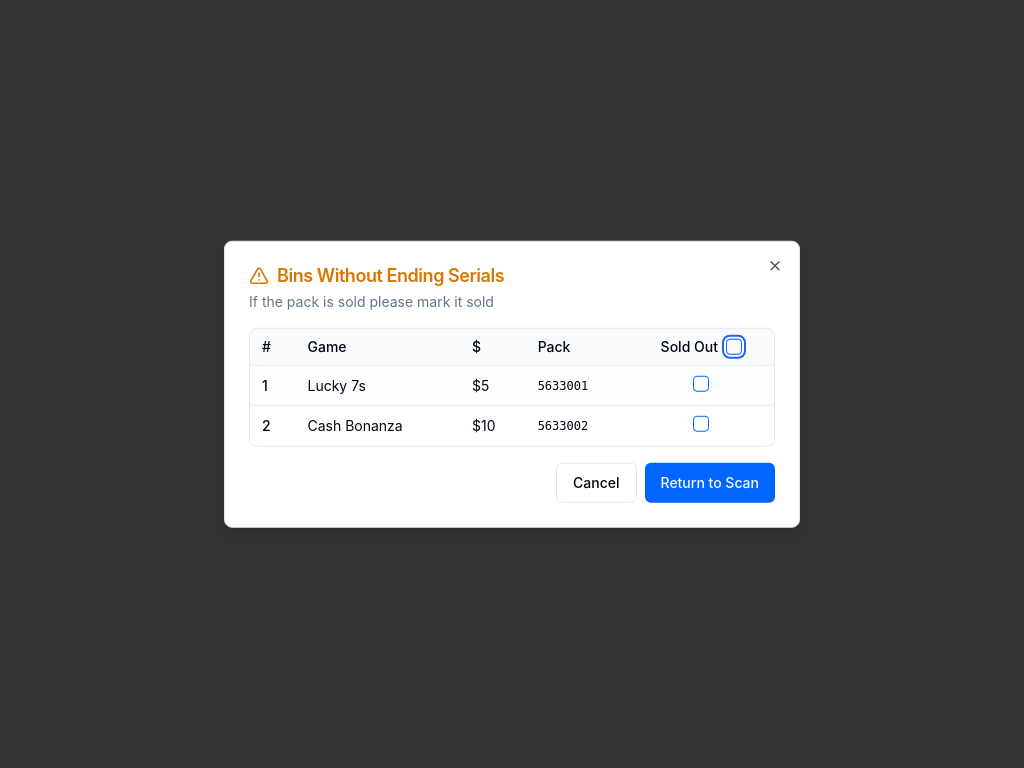
UnscannedBinWarningModal › Select All Functionality › should show Select All as checked when all bins are manually selected
This screenshot has width=1024, height=768.
# Manually select all bins
What coordinates should you click on to do the following:
click the checkbox with test id "bin-sold-out-bin-1"
I would click on:
 (701, 383)
Its box is x1=693 y1=375 x2=709 y2=391.
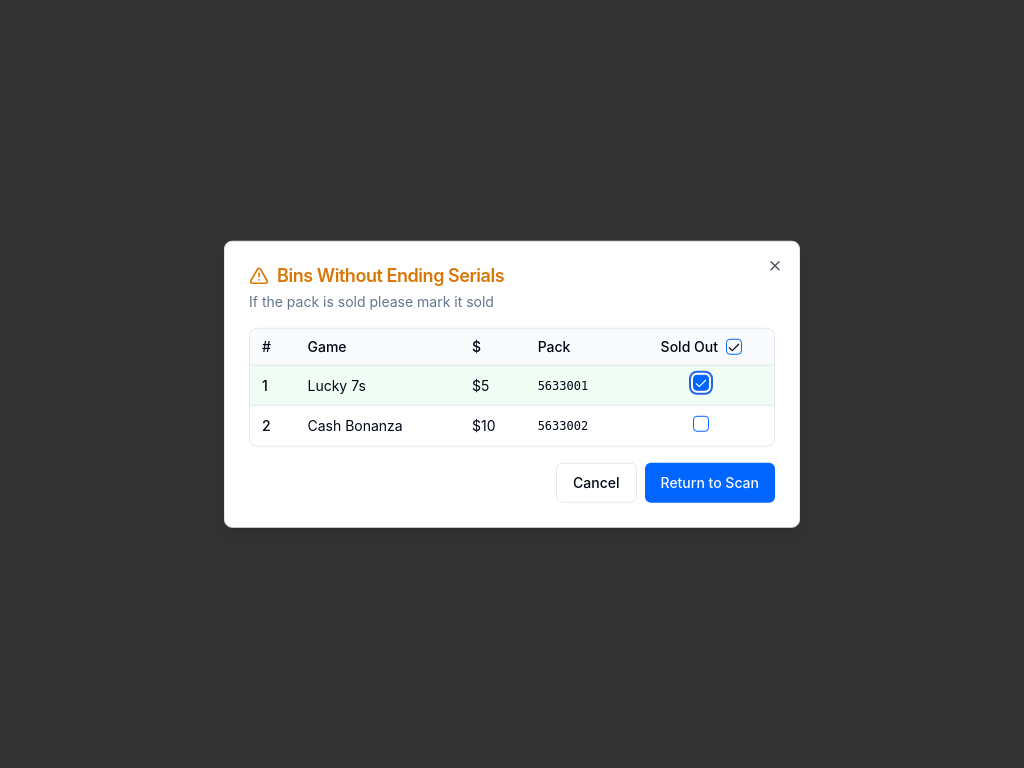
What coordinates should you click on to do the following:
click the checkbox with test id "bin-sold-out-bin-2"
I would click on:
 (701, 424)
Its box is x1=693 y1=416 x2=709 y2=432.
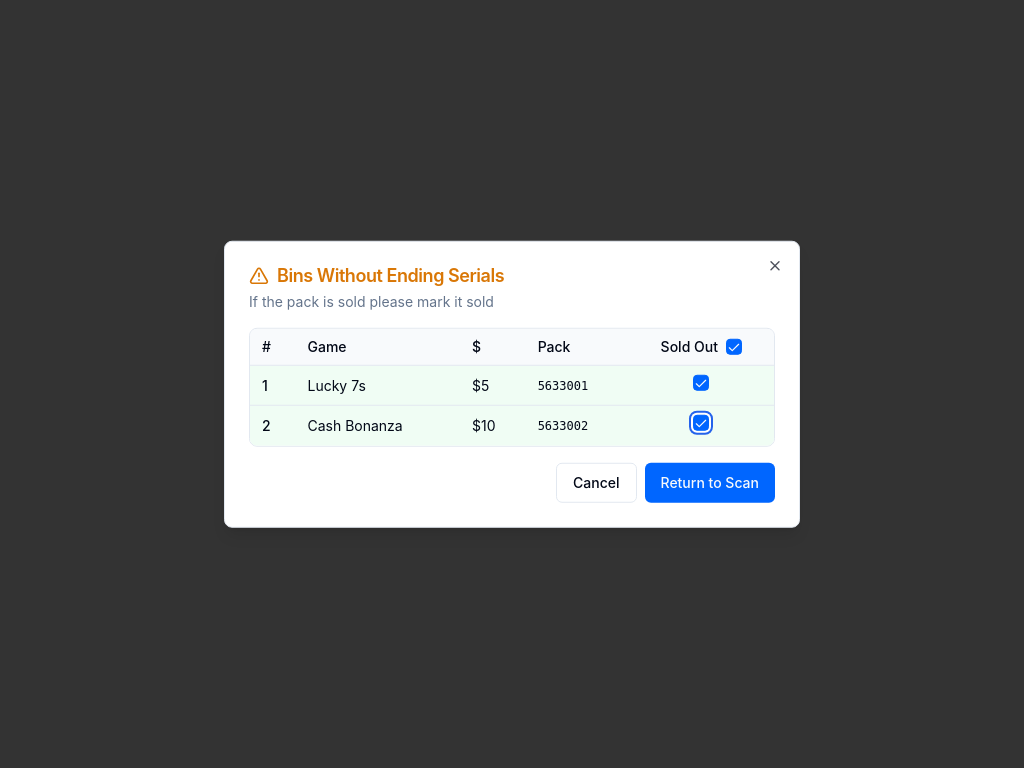
Result: the checkbox with test id "select-all-sold-out" is checked at x1=726 y1=339 x2=742 y2=355
